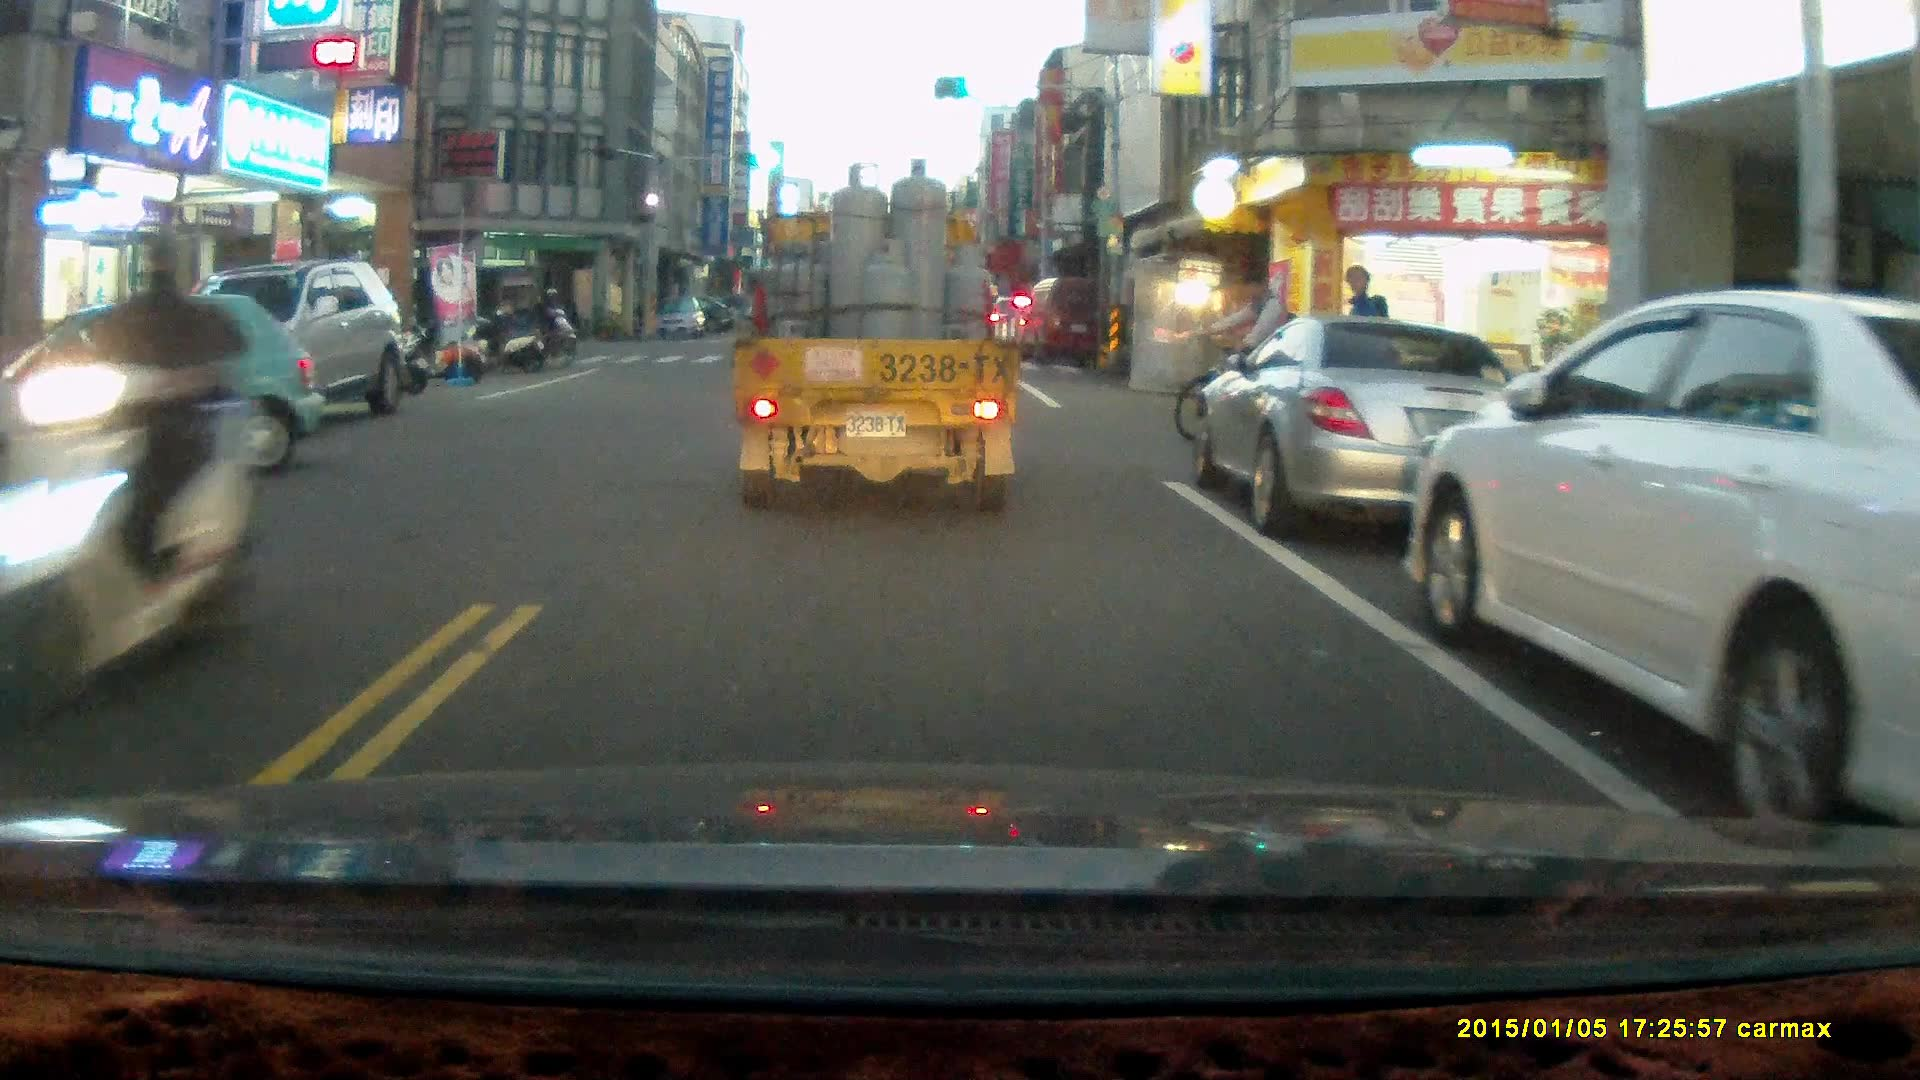rider: (0, 229, 259, 727), (1175, 271, 1336, 451), (518, 284, 581, 358)
vehicle: (1407, 283, 1920, 811), (733, 160, 1023, 516), (1196, 319, 1554, 536), (1, 292, 318, 486), (333, 261, 542, 365), (1023, 272, 1126, 367), (655, 296, 709, 341)
